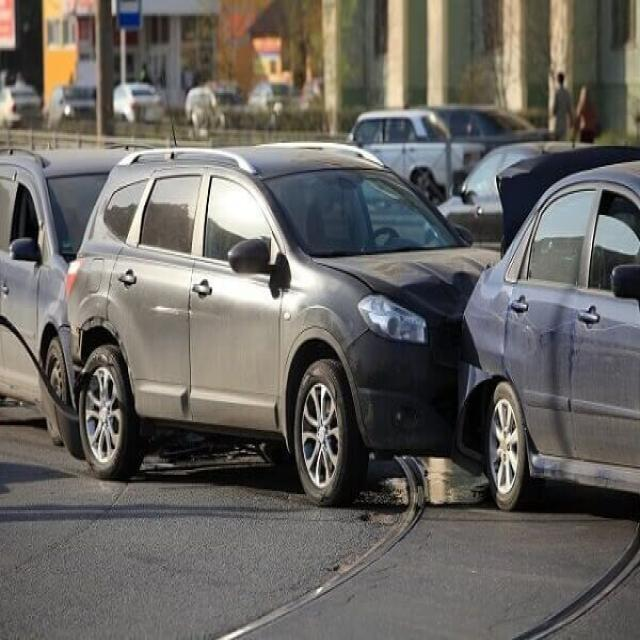Accident: (55, 142, 640, 509)
